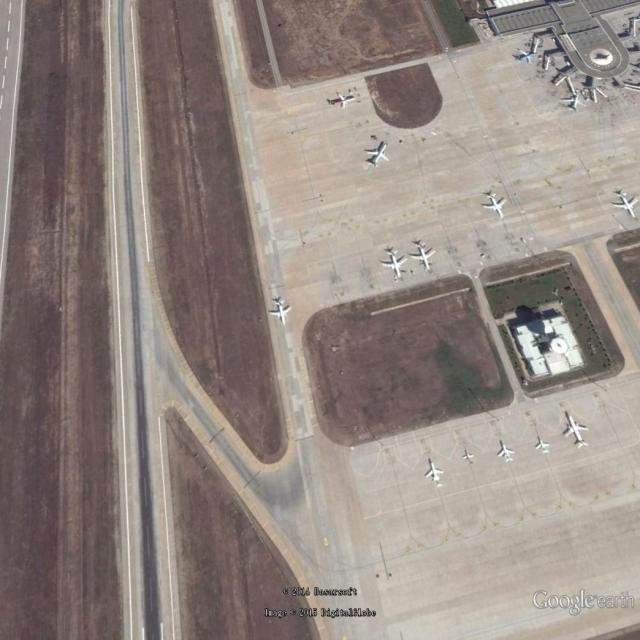aircraft: (562, 410, 592, 450), (378, 248, 411, 282), (407, 240, 437, 273), (609, 190, 639, 221), (363, 142, 394, 171), (481, 190, 510, 221), (422, 458, 448, 490), (328, 89, 360, 114), (268, 299, 293, 327), (560, 91, 589, 115), (511, 47, 541, 68), (496, 440, 518, 466), (534, 436, 552, 457), (462, 448, 479, 469)
